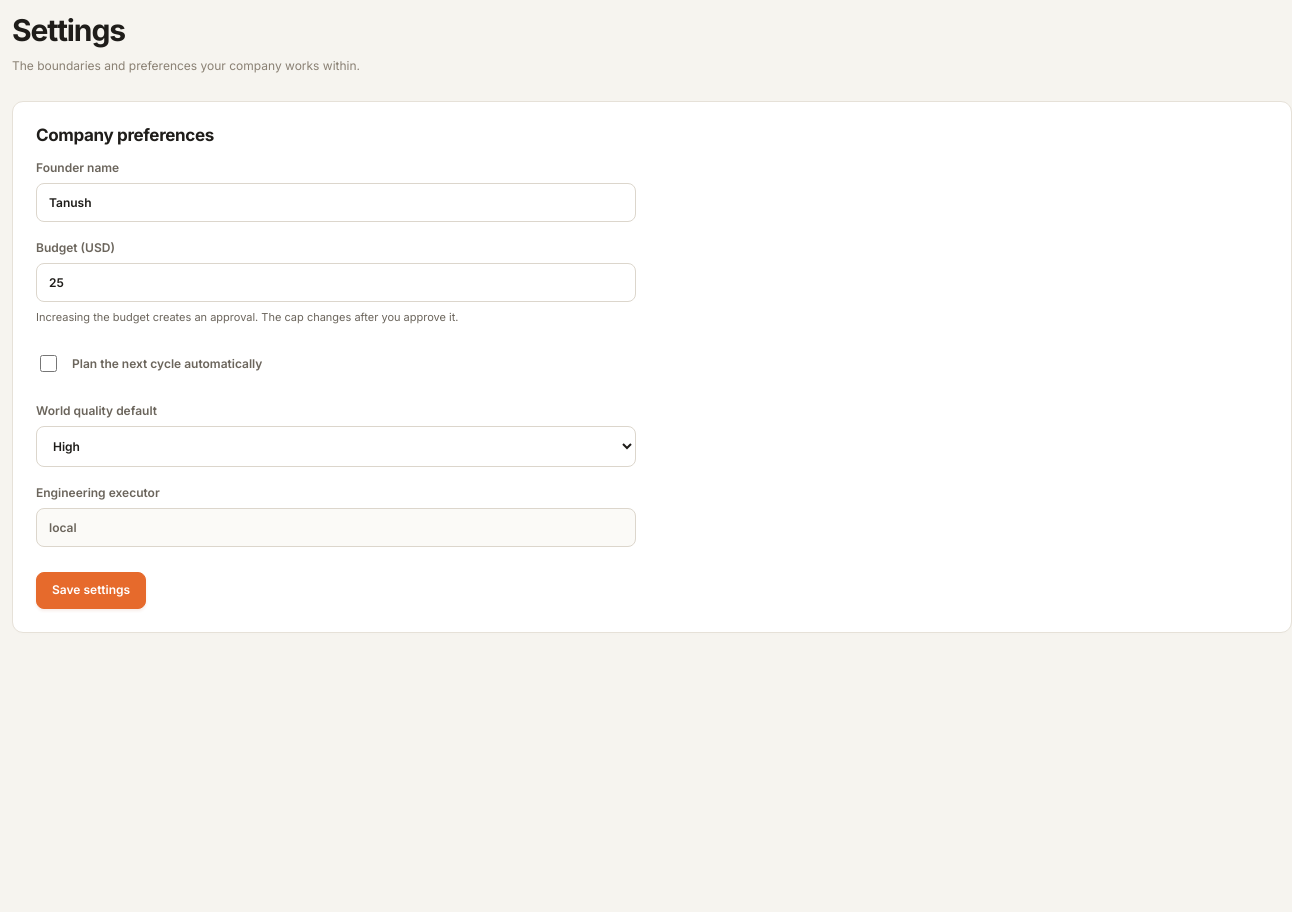
Test: preserves unsaved preferences when company events refresh server settings
Select "Low" in the dropdown labelled "World quality default" at [336, 447], box [36,426,636,467]
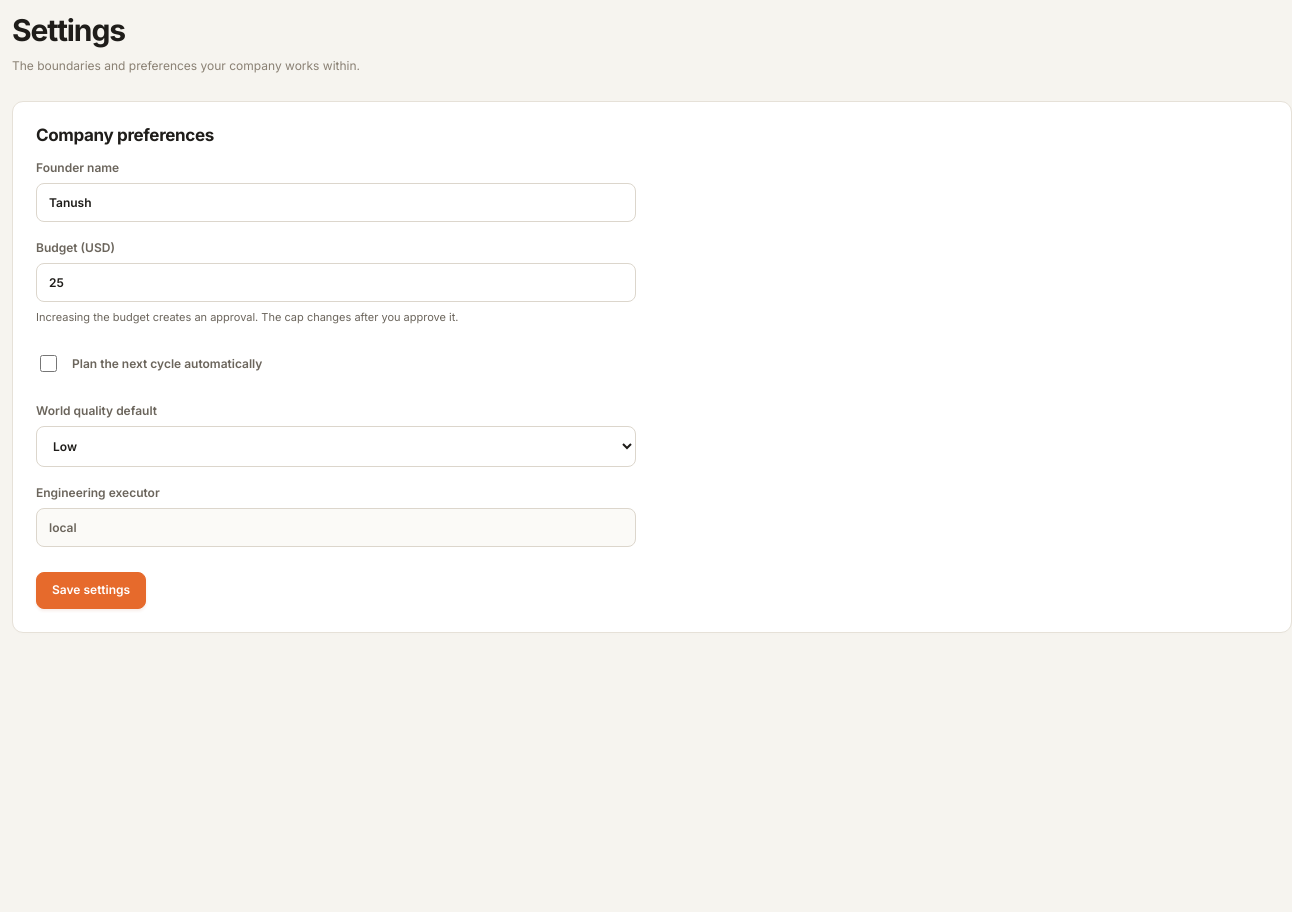
expect the field labelled "Founder name" holds "Tanush": met, box [36,183,636,222]
Submit the form, box [36,160,636,609]
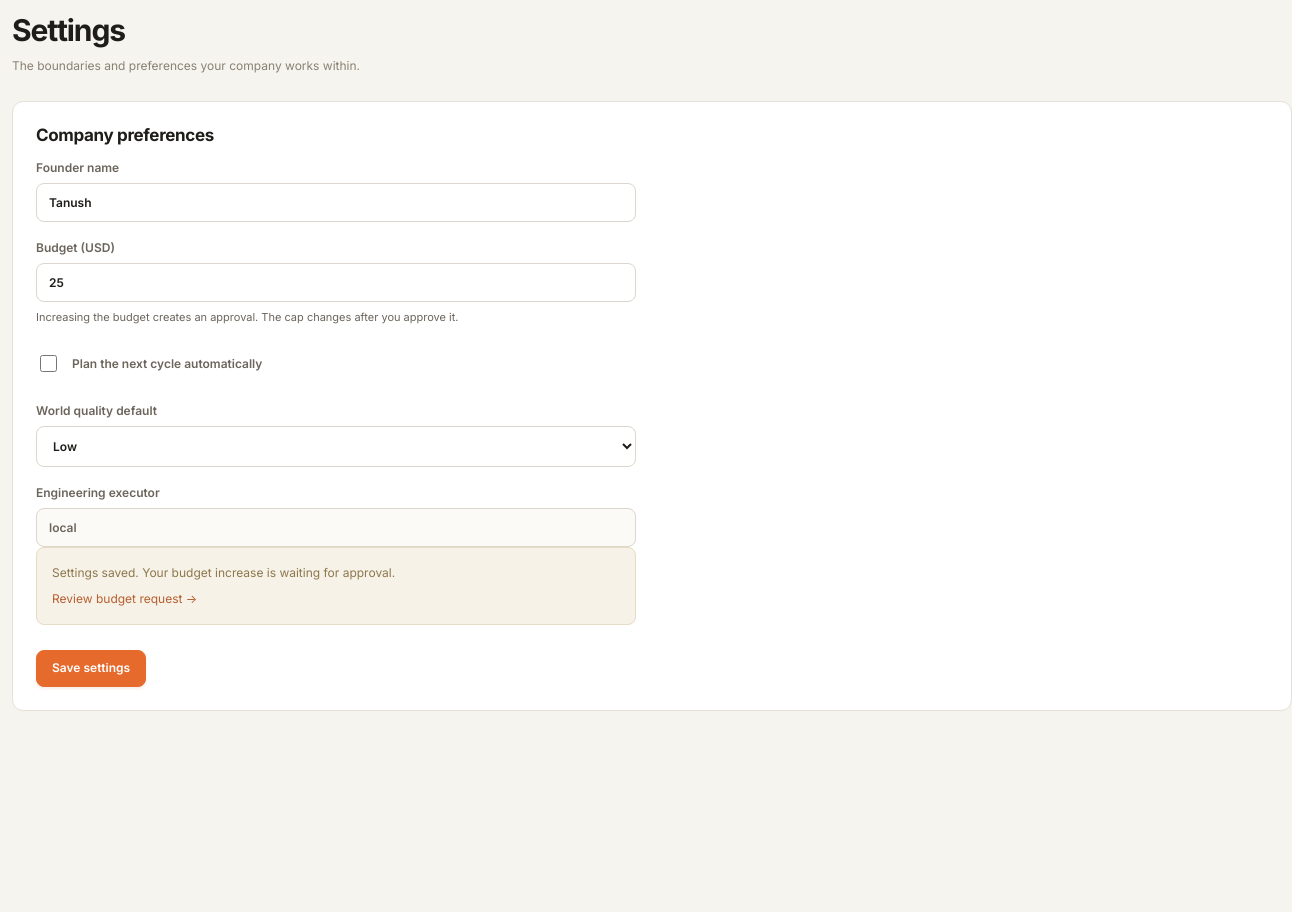
expect the number field holds "25": met, box [36,263,636,302]
expect the link to "/approvals?id=apr_budget" is shown: met, box [52,591,197,606]
